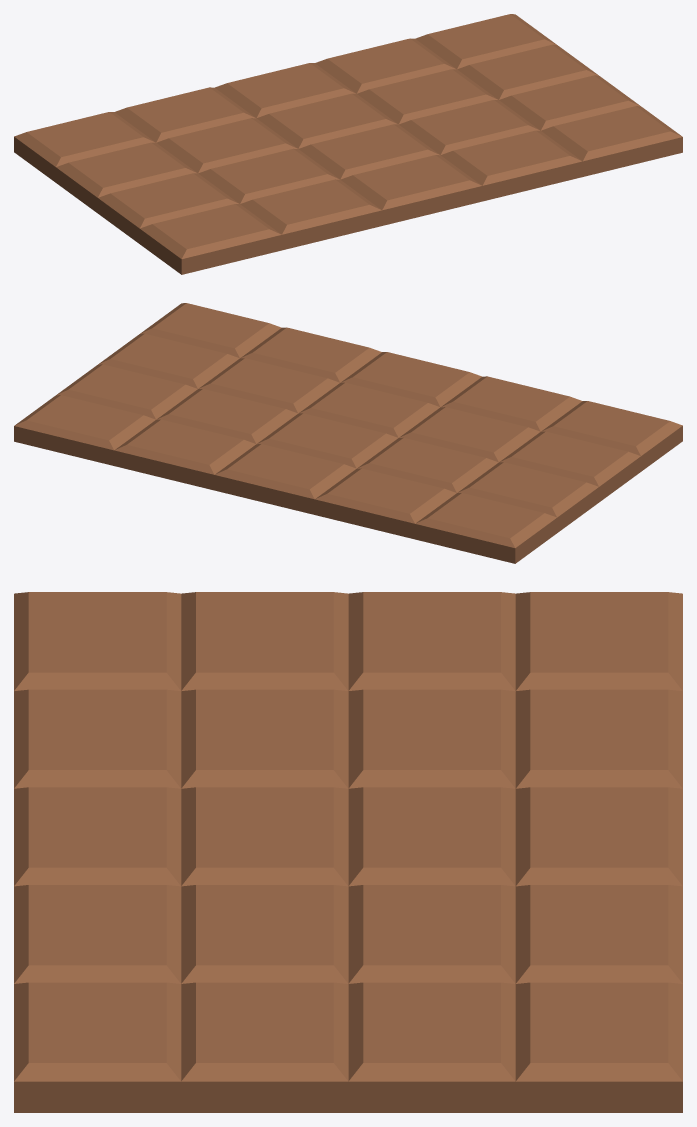
The model's file is Choclate.fbx.
3 views of the same model, one above another, from view 1: azimuth 30°, elevation 25°; view 2: azimuth 150°, elevation 25°; view 3: azimuth 270°, elevation 25° (orthographic). The views are drawn at different scales.
Visible parts, largest first — view 1: Cube.003; view 2: Cube.003; view 3: Cube.003.
Part boxes in pixels (x1,y1,x2,y2): Cube.003: (14,14,682,274); Cube.003: (14,303,682,563); Cube.003: (14,592,682,1112).
Size of the model in its own units: 0.58 by 0.0229 by 0.336.
